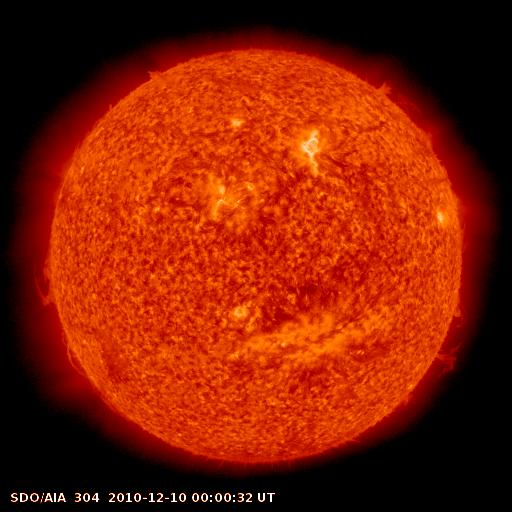prominence: (367, 69, 435, 137), (425, 298, 481, 379), (27, 243, 67, 321), (53, 331, 100, 393), (136, 54, 175, 94)
